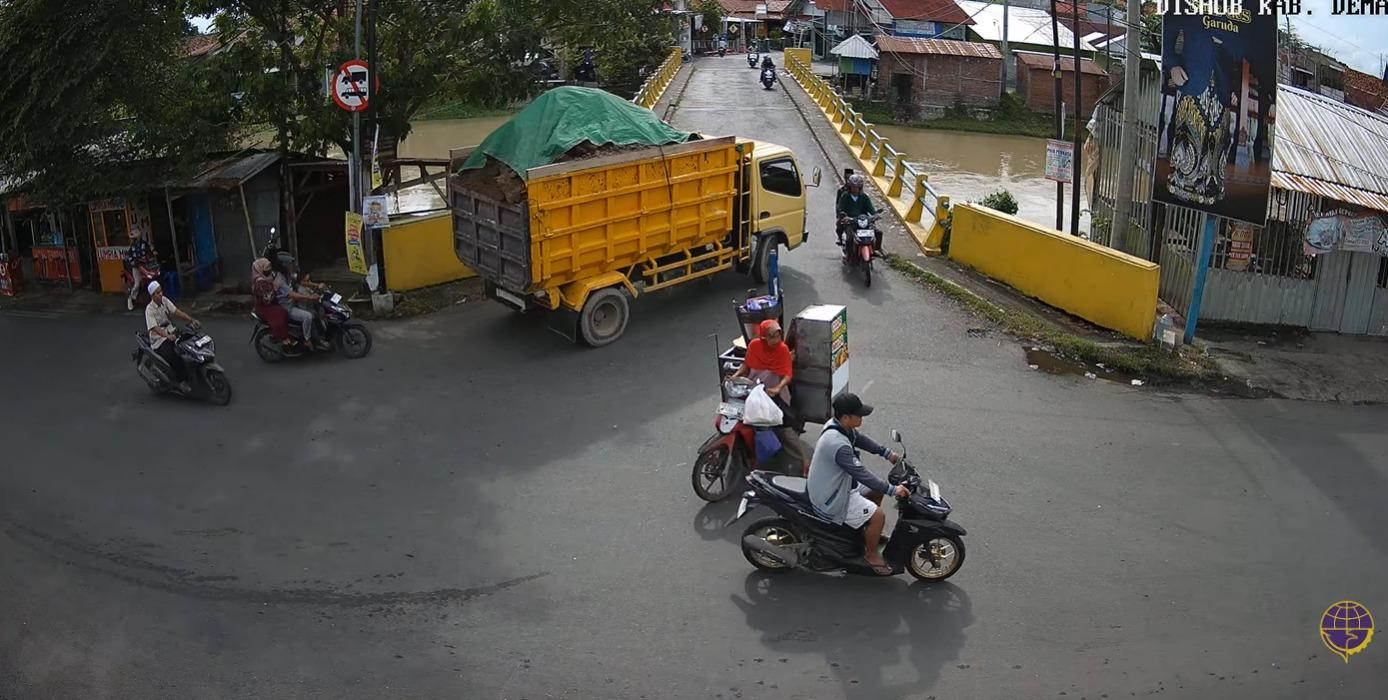Helmet: (847, 173, 864, 187)
Number Plate: (494, 288, 526, 308), (717, 402, 742, 418), (734, 497, 748, 520), (928, 480, 940, 500), (195, 336, 210, 347), (330, 293, 341, 303)
Rearview Mirror: (811, 166, 821, 185), (891, 430, 901, 442)
